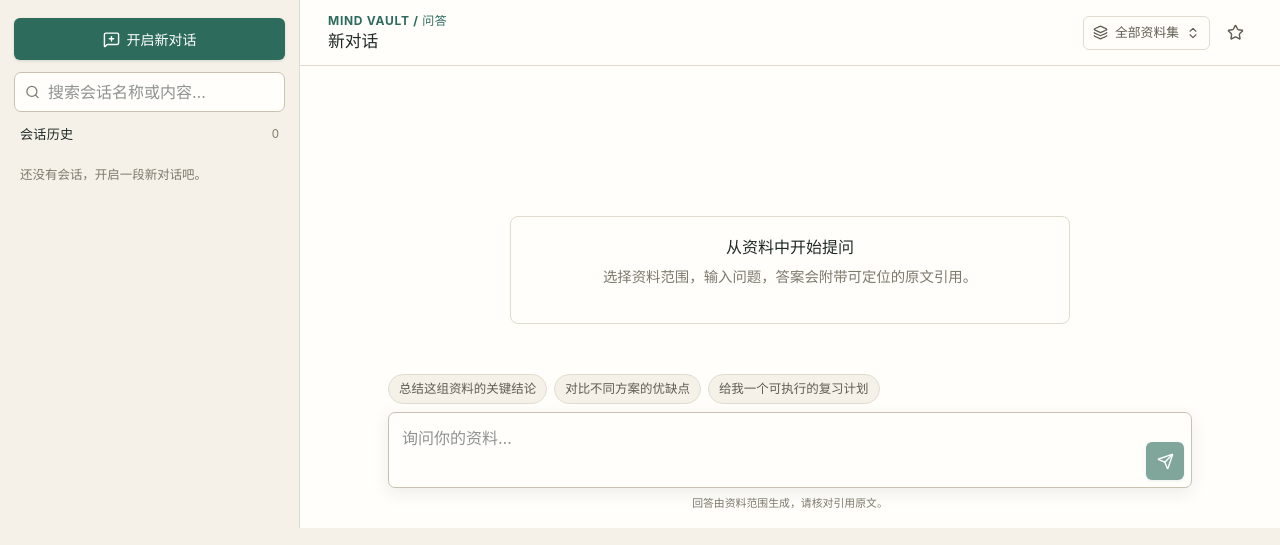
ChatPage › displays an answer from a result-only stream frame
Type "结果问题" into the text box named "输入问题" at (768, 450), box [396,420,1139,480]
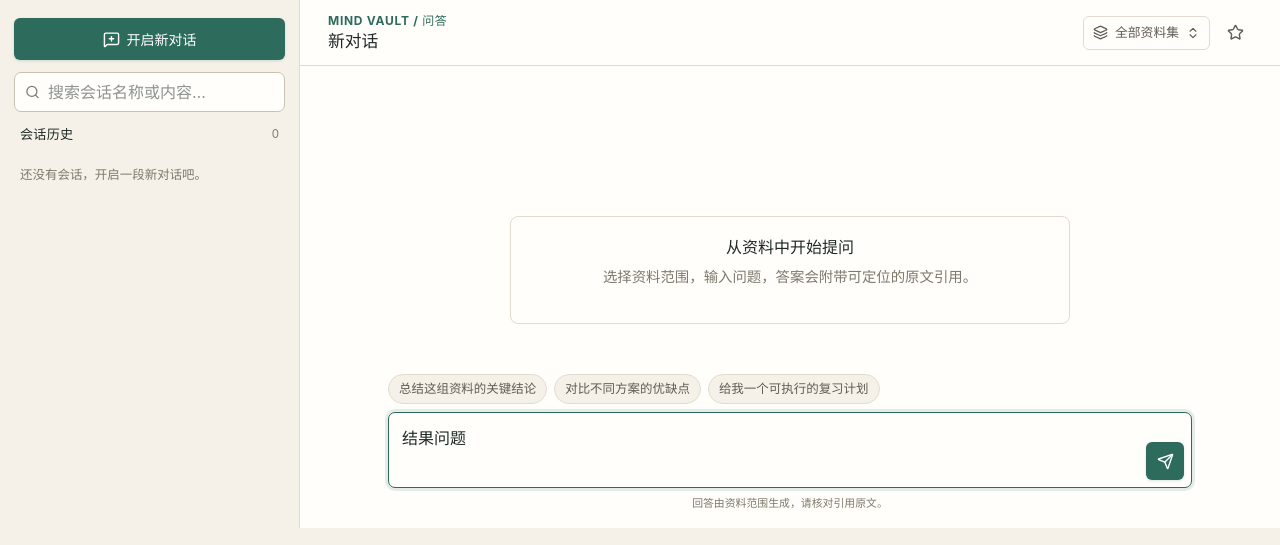
Click the button named "发送问题" at (1165, 461), box [1146,442,1184,480]
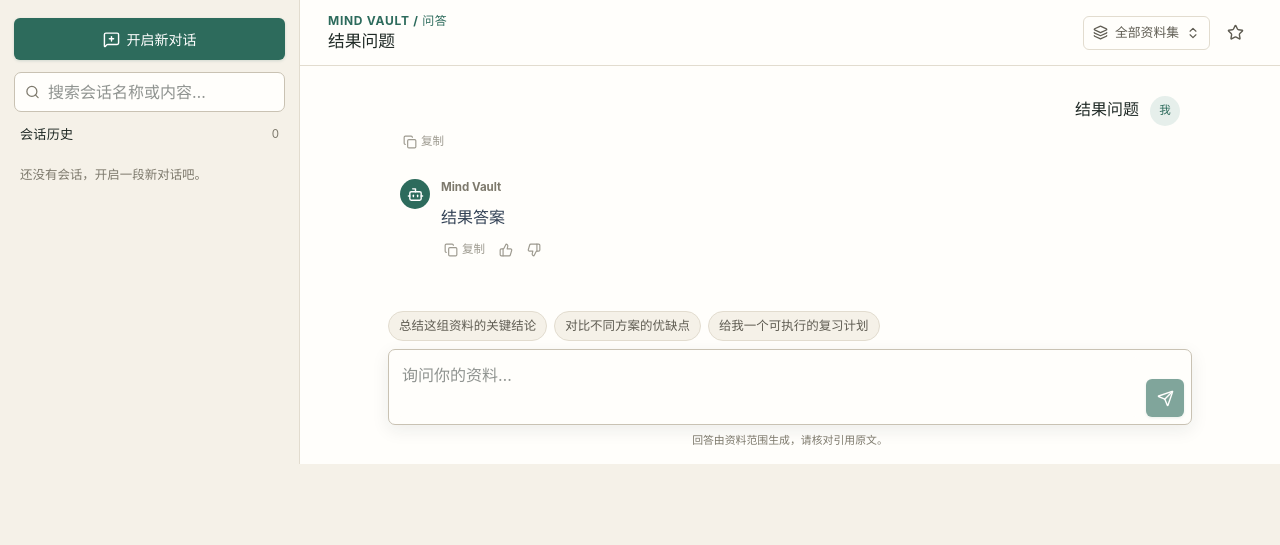
Expected: the text "结果答案" is shown, [441,207,505,227]
Expected: the text "结果问题" is shown, [1075,99,1139,119]
